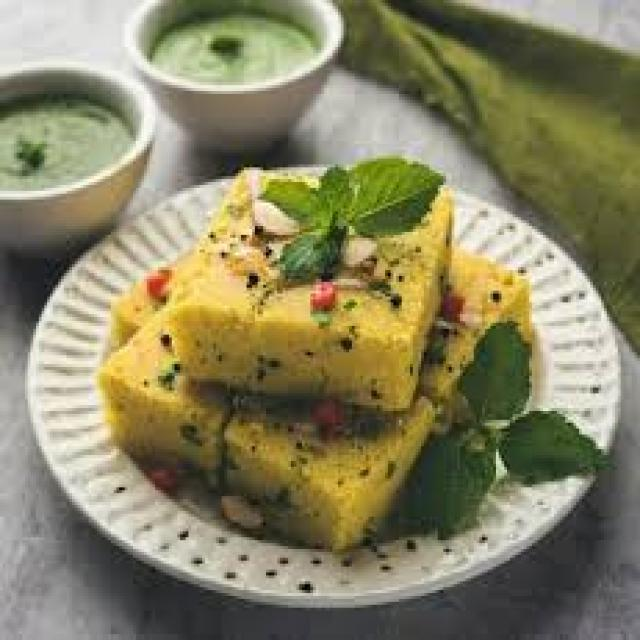DHOKLA: (181, 165, 456, 409), (230, 385, 427, 545), (98, 309, 227, 492), (422, 255, 530, 433)
